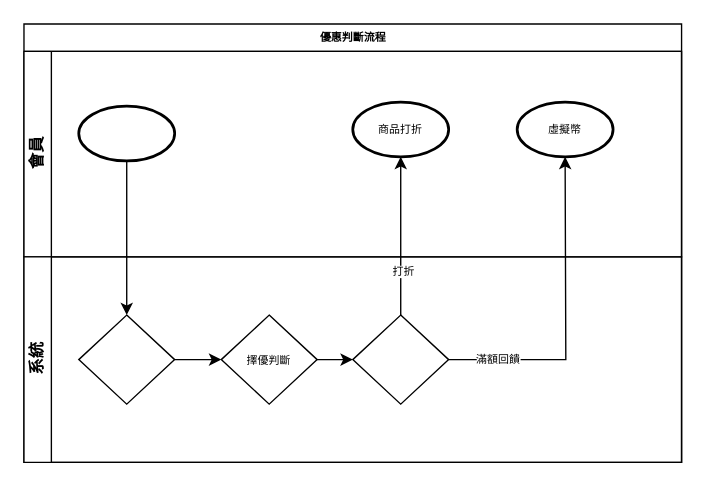
The diagram is 706 pixels wide and 486 high, and some of its shapes have lost their labels. Each missing label, with the centre of its shape:
打折/滿額回饋: [400,359]
會員等級: [126,133]
等級判斷: [126,359]
